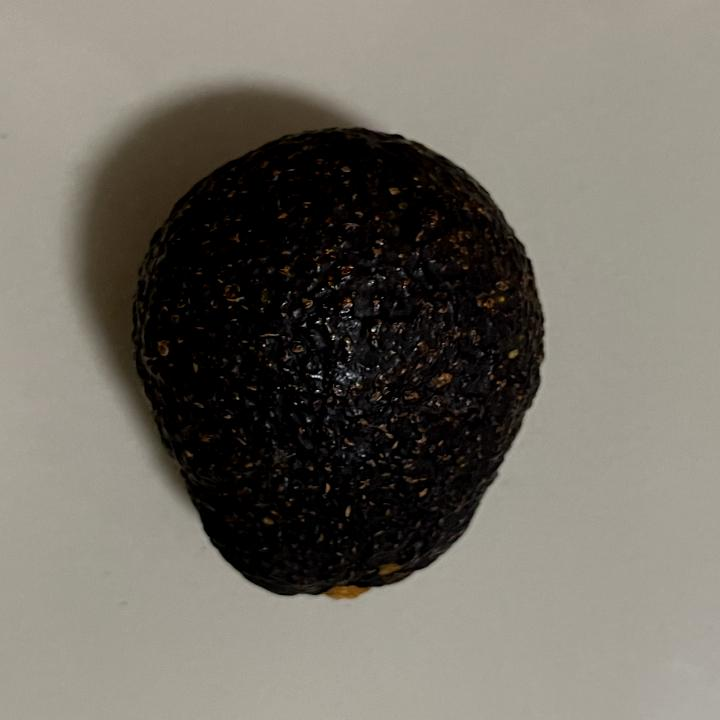Level3: (121, 120, 559, 614)
